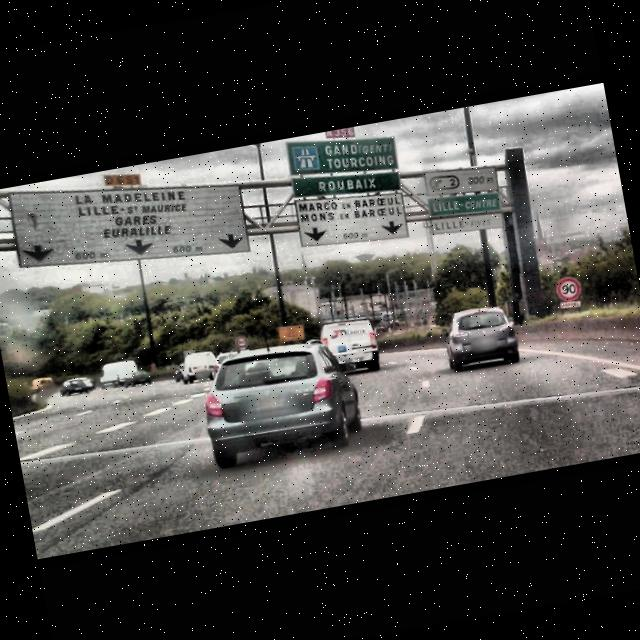speed_90: (554, 274, 582, 301)
